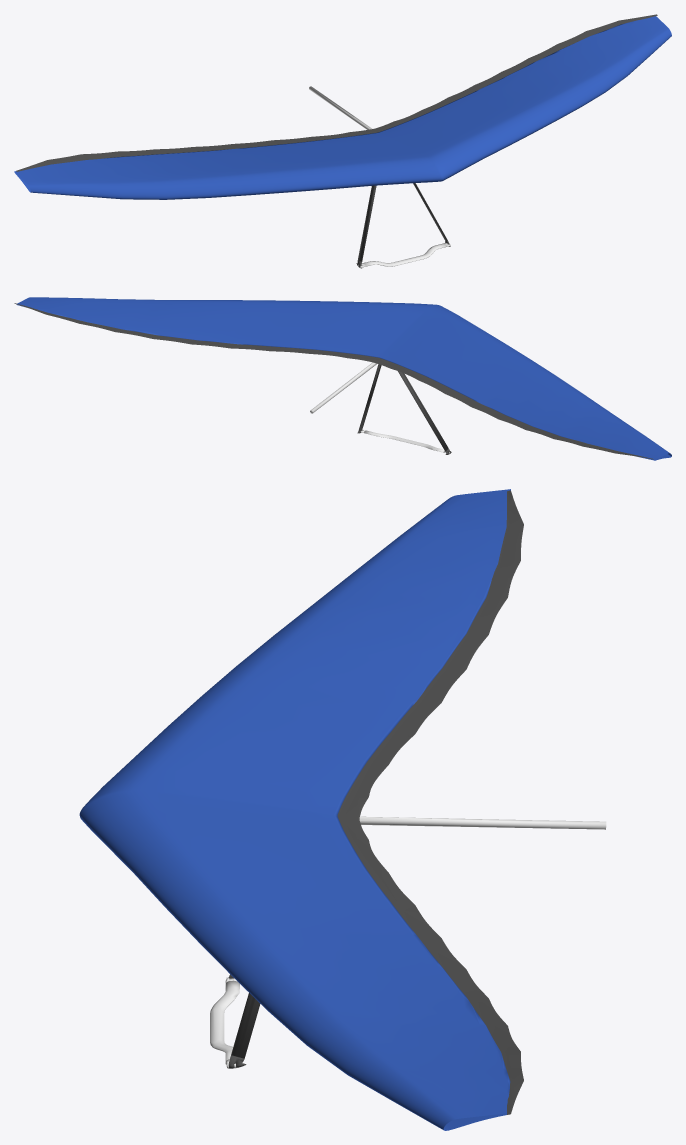
The model's file is glide.fbx.
3 views of the same model, one above another, from view 1: azimuth 30°, elevation 25°; view 2: azimuth 150°, elevation 25°; view 3: azimuth 270°, elevation 25° (orthographic). The views are drawn at different scales.
Visible parts, largest first — view 1: Cube.005; view 2: Cube.005; view 3: Cube.005.
Part boxes in pixels (box(x1,y1,x2,y2)): Cube.005: box(14, 14, 671, 268); Cube.005: box(14, 297, 671, 460); Cube.005: box(79, 489, 606, 1130).
Bounding box in the file's own units: 968 × 173 × 344.
